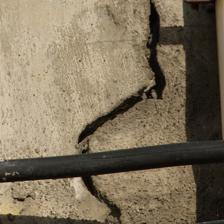Crack: (47, 8, 121, 117), (19, 24, 165, 64)
